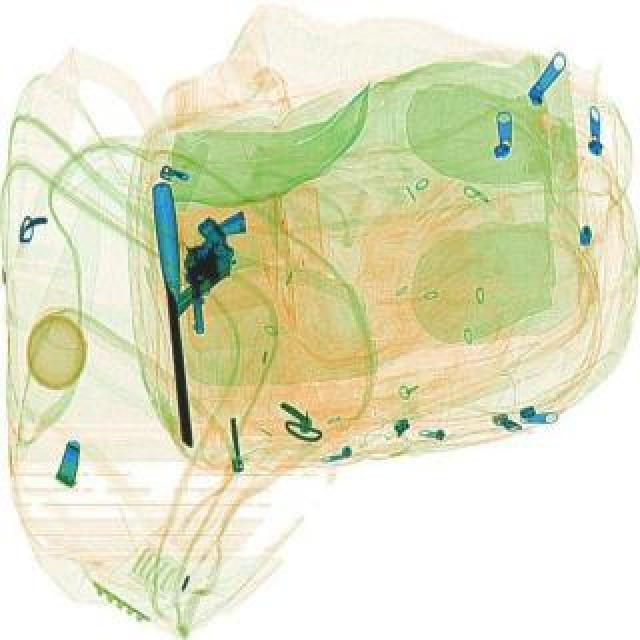gun: (136, 212, 252, 316), (182, 208, 250, 332)
knife: (148, 180, 200, 448)
